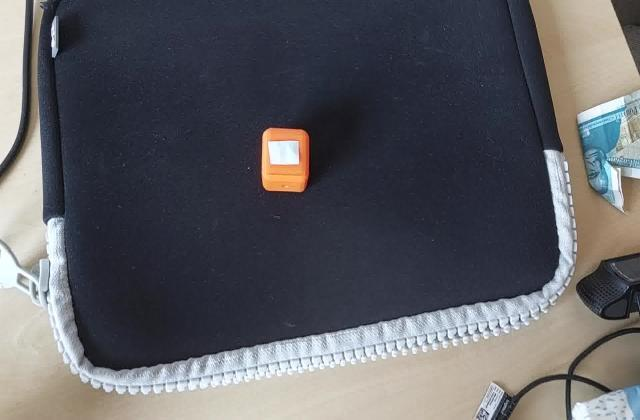sticker: (258, 128, 312, 196)
white: (266, 138, 303, 168)
